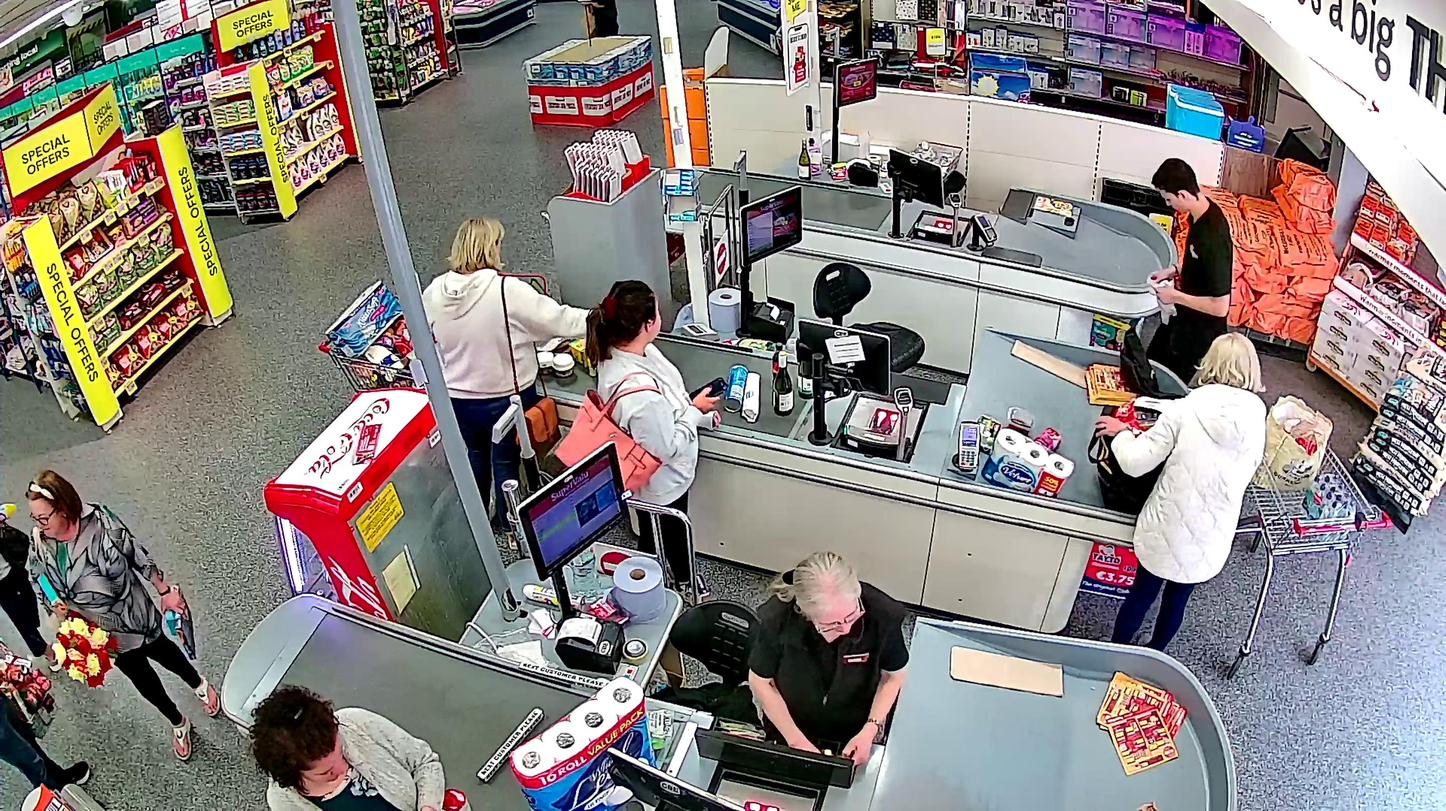backpack-or-handbag: (555, 389, 661, 497), (515, 394, 560, 447)
carrying-item: (51, 611, 118, 687), (161, 583, 197, 662)
filled-trolly: (320, 278, 434, 389)
occupied-checkout-counter: (515, 438, 919, 811)
person: (26, 469, 219, 758), (420, 214, 594, 528), (583, 279, 722, 604)
person-with-backpack-handbag: (557, 278, 721, 601)
person-with-basket-trolly-and-backpack-handbag: (320, 212, 594, 529)
person-with-carrying-item: (26, 467, 220, 762)
vacant-checkout-counter: (731, 181, 997, 479), (826, 44, 1034, 259)
